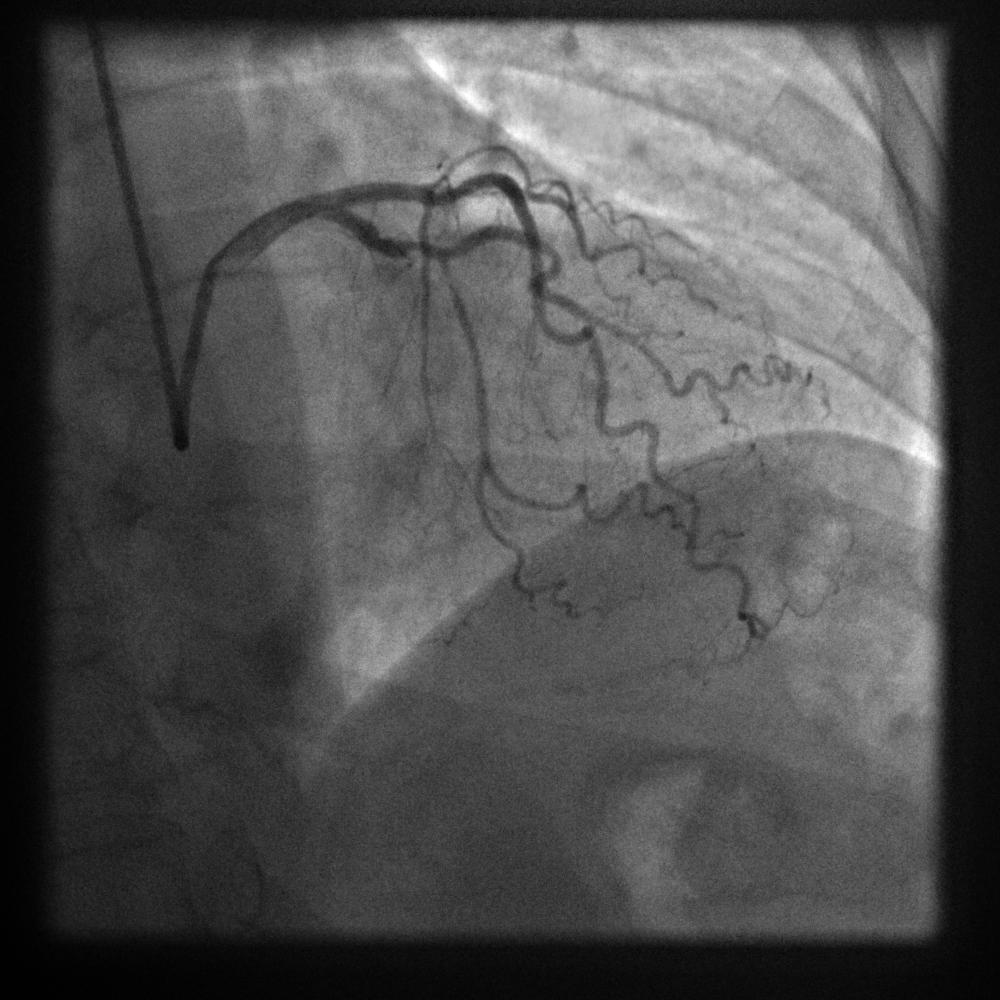Stenosis: (356, 225, 452, 264)
